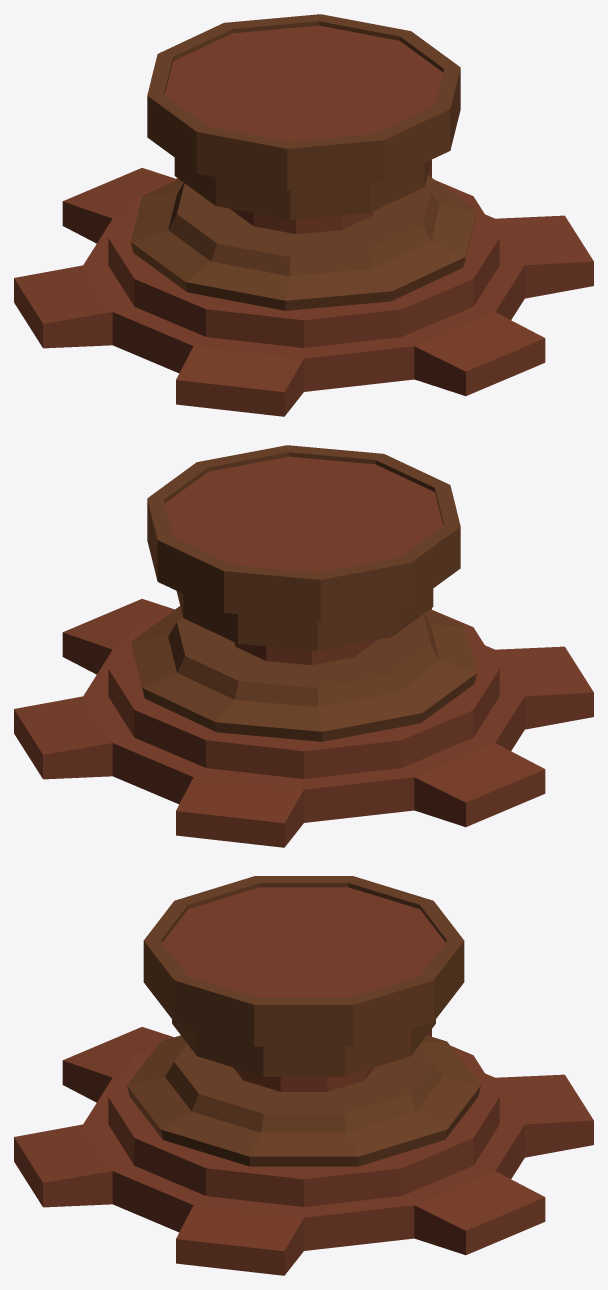
3 renders of one model, top to bottom at view 1: azimuth 30°, elevation 25°; view 2: azimuth 150°, elevation 25°; view 3: azimuth 270°, elevation 25°, orthographic.
Visible parts, largest first — view 1: Base; view 2: Base; view 3: Base.
Part boxes in pixels (box(x1,y1,x2,y2)): Base: box(14, 14, 593, 416); Base: box(14, 445, 593, 847); Base: box(14, 876, 593, 1275).
Size of the model in its own units: 1.38 by 0.5688 by 1.38.
